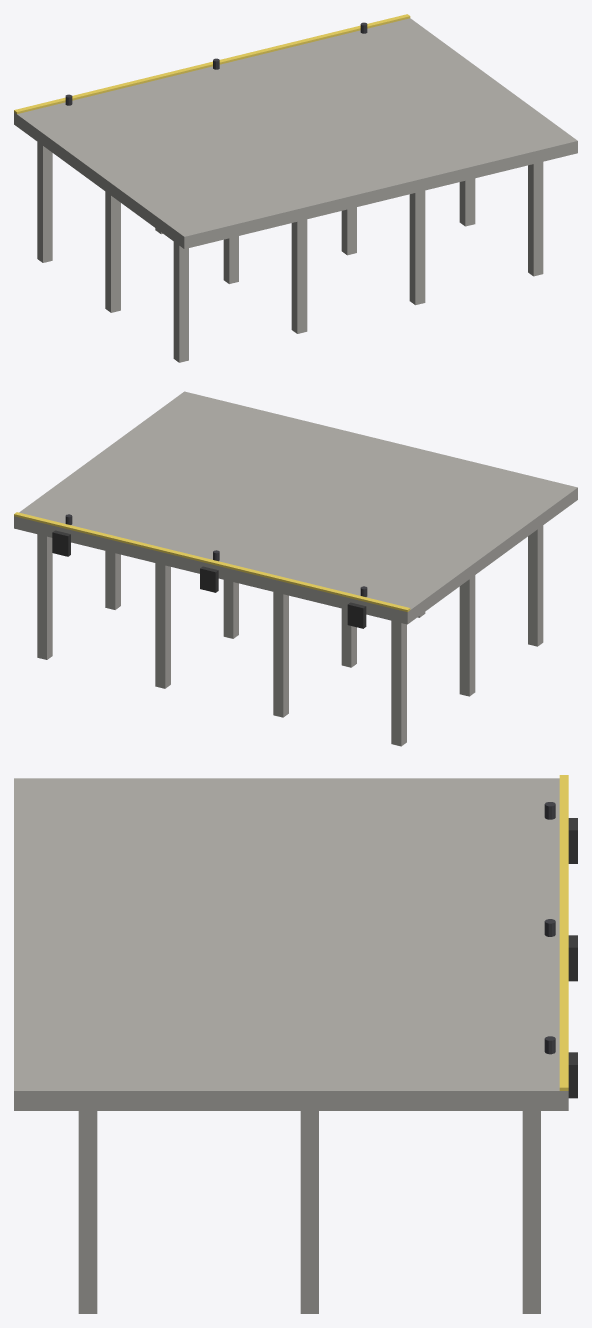
The model's file is quay.glb.
The picture shows the model from 3 angles, top to bottom: view 1: azimuth 30°, elevation 25°; view 2: azimuth 150°, elevation 25°; view 3: azimuth 270°, elevation 25°; orthographic projection. The views are drawn at different scales.
Visible parts, largest first — view 1: quay; view 2: quay; view 3: quay.
Boxes of the visible parts, x1,y1,x2,y2 form: quay: (14, 14, 577, 362); quay: (14, 391, 577, 746); quay: (14, 775, 577, 1313).
Bounding box in the file's own units: 40 × 14.8 × 30.5.
